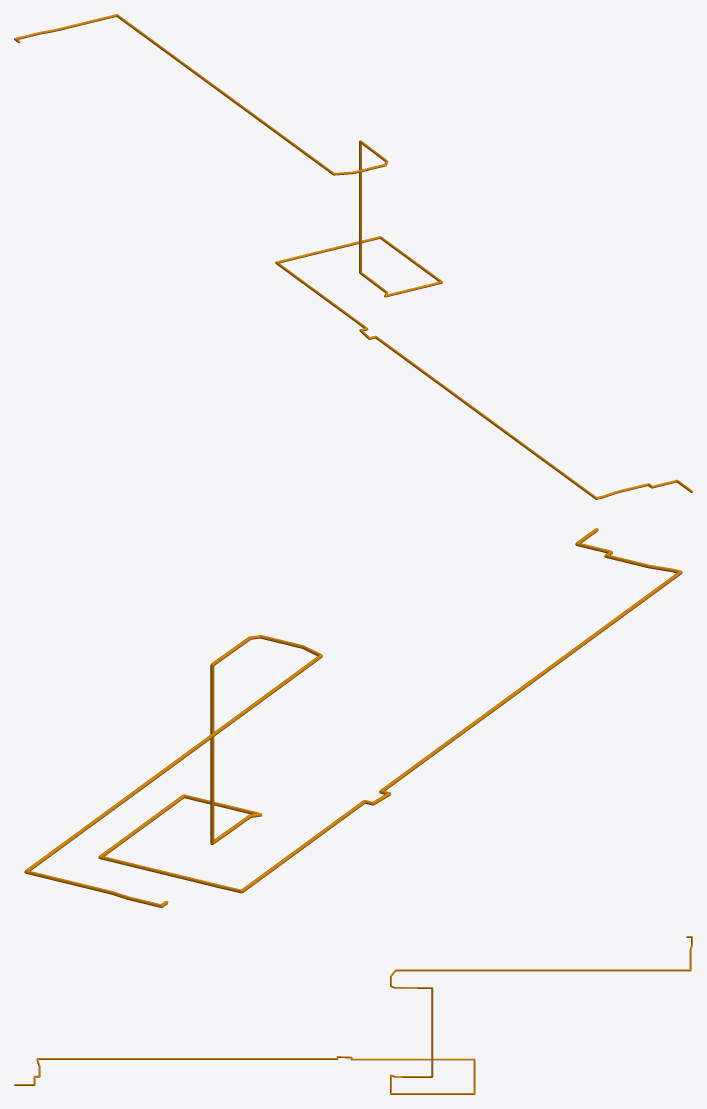
3 renders of one model, top to bottom at view 1: azimuth 30°, elevation 25°; view 2: azimuth 150°, elevation 25°; view 3: azimuth 270°, elevation 25°, orthographic. The views are drawn at different scales.
Bounding box in the file's own units: 1656 × 1020 × 6908.
